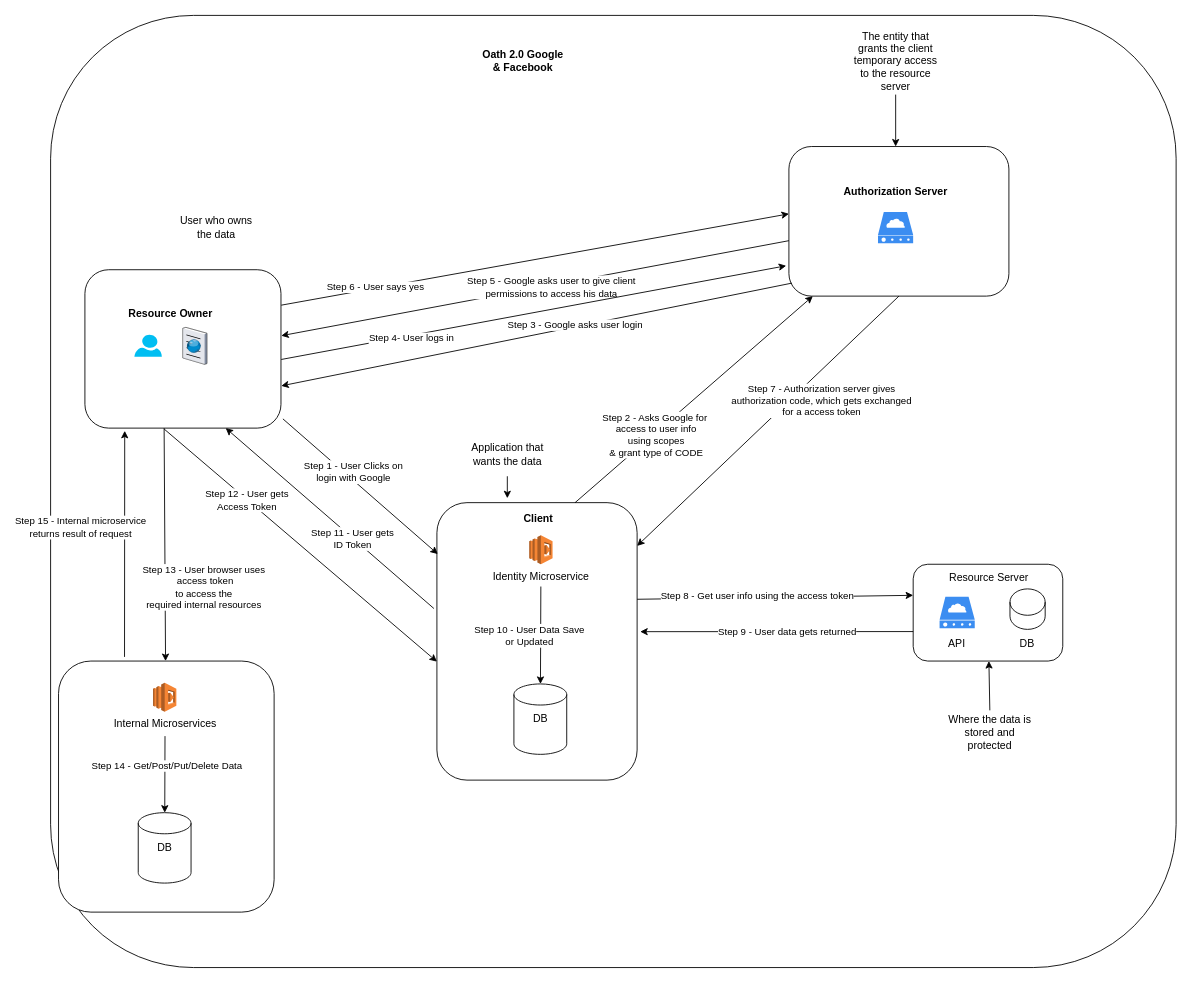
Image size: 1192x983. Some labels were removed from this diagram. Each missing label, with the centre of its shape:
"Browser" goes at [194,345].
"User" goes at [147,345].
